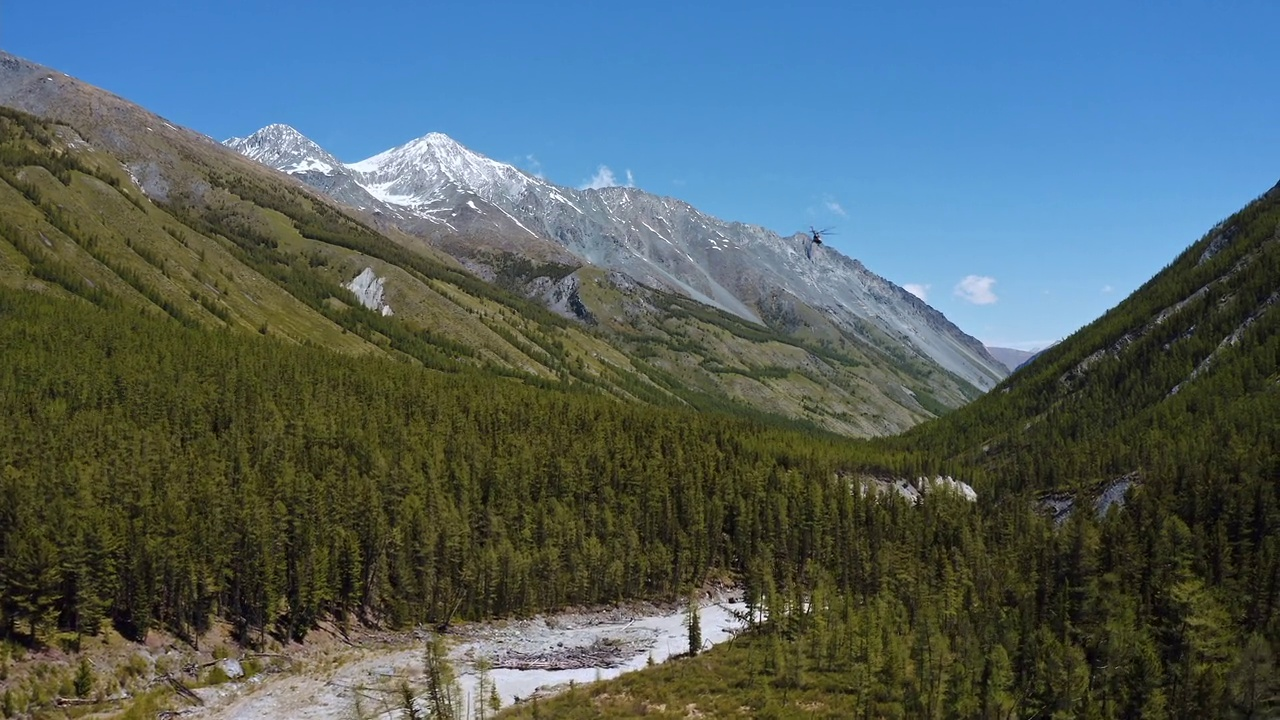heli: (800, 225, 834, 247)
